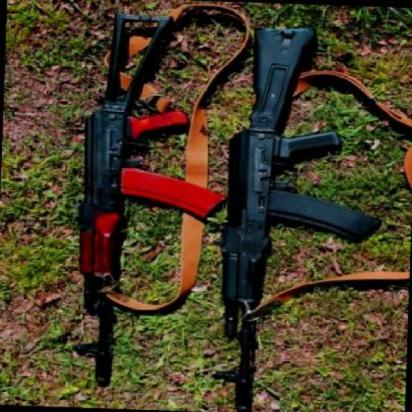Gun: (72, 10, 226, 388), (222, 26, 371, 410)
